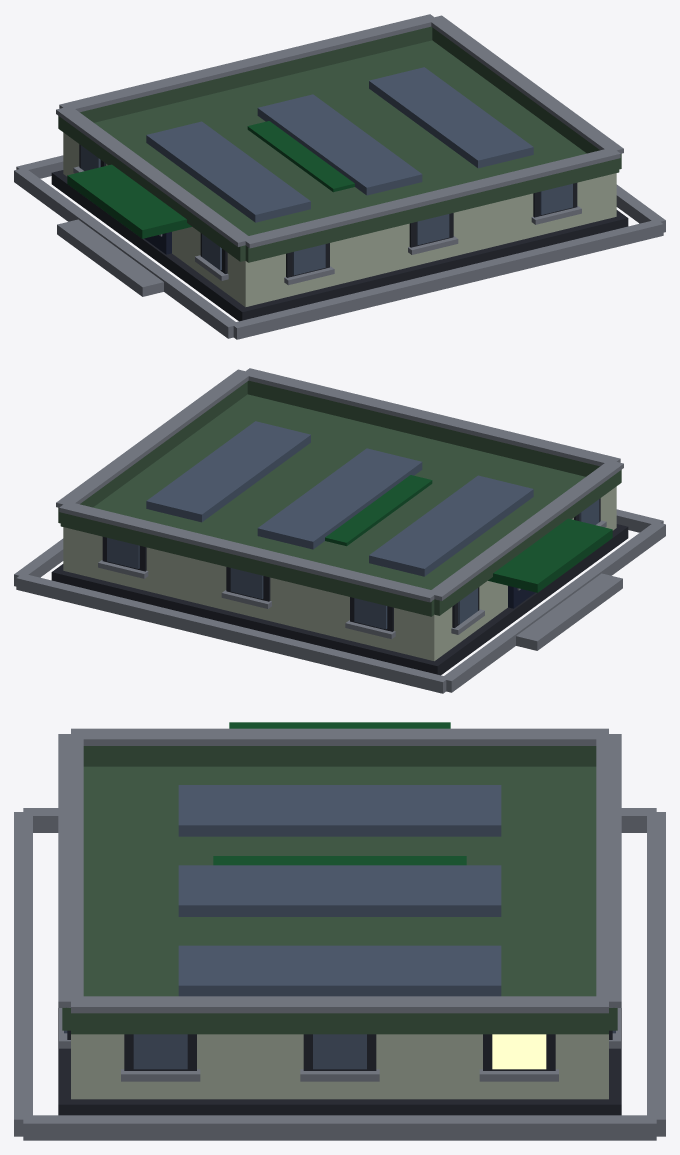
The model's file is gym-high.glb.
3 renders of one model, top to bottom at view 1: azimuth 30°, elevation 25°; view 2: azimuth 150°, elevation 25°; view 3: azimuth 270°, elevation 25°, orthographic. The views are drawn at different scales.
Bounding box in the file's own units: 49.5 × 8.02 × 41.2.
